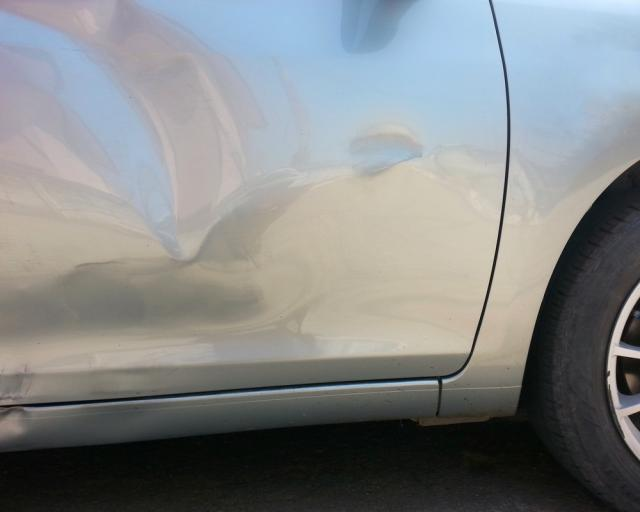dent: (347, 0, 413, 52), (0, 367, 32, 401), (0, 409, 29, 433)
